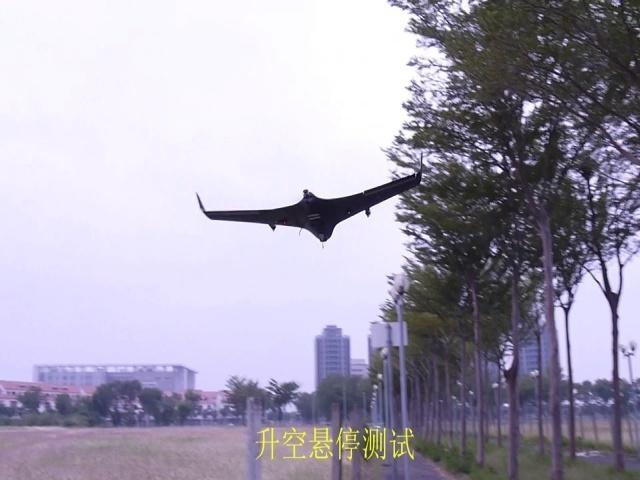Airplane: (195, 151, 424, 249)
